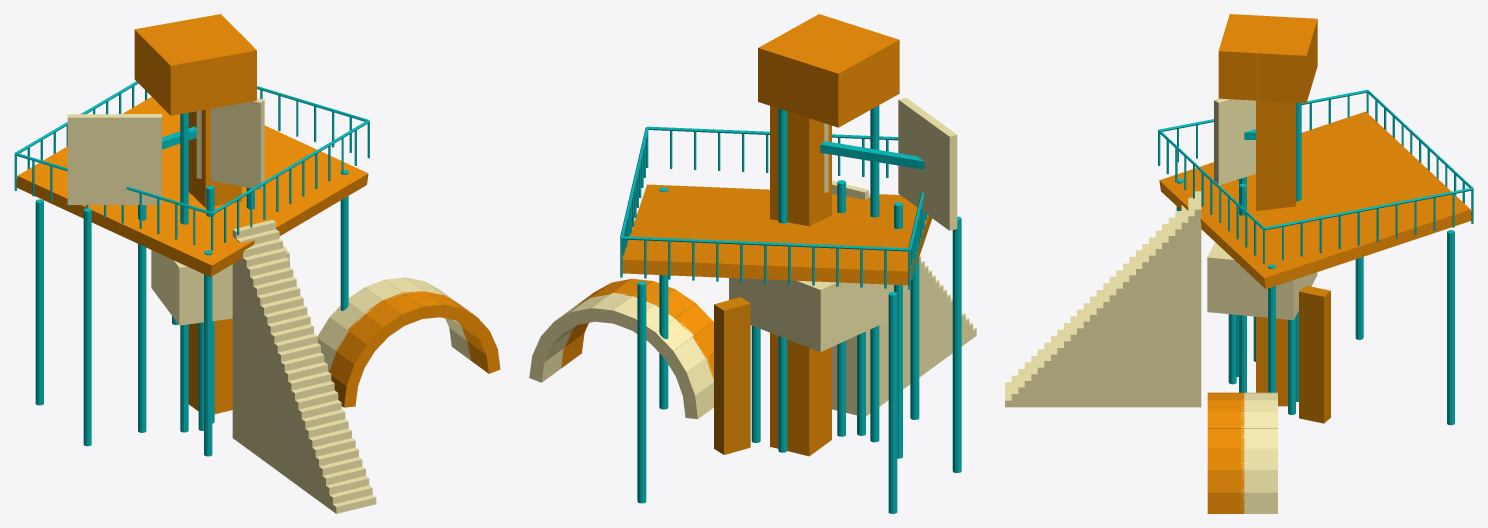
The model's file is folie_tag_136.glb.
3 views of the same model, side by side, from view 1: azimuth 30°, elevation 25°; view 2: azimuth 150°, elevation 25°; view 3: azimuth 270°, elevation 25° (orthographic). The views are drawn at different scales.
Parts seen in each view (by area): view 1: folie_tag_136_stairs, folie_tag_136_00_plate, folie_tag_136_line, folie_tag_136_02_block, folie_tag_136_05_panel, folie_tag_136_03_arc, folie_tag_136_core, folie_tag_136_06_panel, folie_tag_136_01_block, folie_tag_136_04_arc; view 2: folie_tag_136_line, folie_tag_136_00_plate, folie_tag_136_02_block, folie_tag_136_core, folie_tag_136_01_block, folie_tag_136_04_arc, folie_tag_136_stairs, folie_tag_136_05_panel, folie_tag_136_07_fin, folie_tag_136_03_arc; view 3: folie_tag_136_00_plate, folie_tag_136_stairs, folie_tag_136_line, folie_tag_136_02_block, folie_tag_136_core, folie_tag_136_03_arc, folie_tag_136_04_arc, folie_tag_136_07_fin, folie_tag_136_01_block, folie_tag_136_06_panel.
Part boxes in pixels (left/top/right/bottom): folie_tag_136_stairs: left=232, top=220, right=376, bottom=513; folie_tag_136_00_plate: left=16, top=96, right=368, bottom=276; folie_tag_136_line: left=14, top=81, right=369, bottom=456; folie_tag_136_02_block: left=134, top=14, right=256, bottom=115; folie_tag_136_05_panel: left=67, top=114, right=161, bottom=204; folie_tag_136_03_arc: left=329, top=291, right=500, bottom=407; folie_tag_136_core: left=186, top=19, right=241, bottom=414; folie_tag_136_06_panel: left=196, top=98, right=264, bottom=189; folie_tag_136_01_block: left=151, top=245, right=289, bottom=325; folie_tag_136_04_arc: left=317, top=277, right=470, bottom=371; folie_tag_136_line: left=620, top=105, right=961, bottom=513; folie_tag_136_00_plate: left=622, top=184, right=932, bottom=285; folie_tag_136_02_block: left=758, top=14, right=899, bottom=127; folie_tag_136_core: left=770, top=28, right=831, bottom=456; folie_tag_136_01_block: left=729, top=278, right=888, bottom=352; folie_tag_136_04_arc: left=529, top=293, right=713, bottom=419; folie_tag_136_stairs: left=832, top=181, right=976, bottom=416; folie_tag_136_05_panel: left=898, top=97, right=957, bottom=230; folie_tag_136_07_fin: left=714, top=297, right=750, bottom=454; folie_tag_136_03_arc: left=561, top=278, right=713, bottom=379; folie_tag_136_00_plate: left=1159, top=111, right=1471, bottom=288; folie_tag_136_stairs: left=1005, top=191, right=1201, bottom=407; folie_tag_136_line: left=1158, top=89, right=1473, bottom=425; folie_tag_136_02_block: left=1218, top=14, right=1317, bottom=103; folie_tag_136_core: left=1256, top=36, right=1295, bottom=406; folie_tag_136_03_arc: left=1207, top=392, right=1244, bottom=513; folie_tag_136_04_arc: left=1241, top=392, right=1277, bottom=513; folie_tag_136_07_fin: left=1299, top=285, right=1330, bottom=423; folie_tag_136_01_block: left=1207, top=242, right=1317, bottom=320; folie_tag_136_06_panel: left=1214, top=98, right=1255, bottom=185.
Size of the model in its own units: 12.08 by 10.76 by 12.9.
